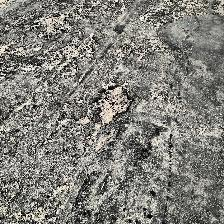pothole: (90, 85, 130, 123), (39, 13, 67, 37)
